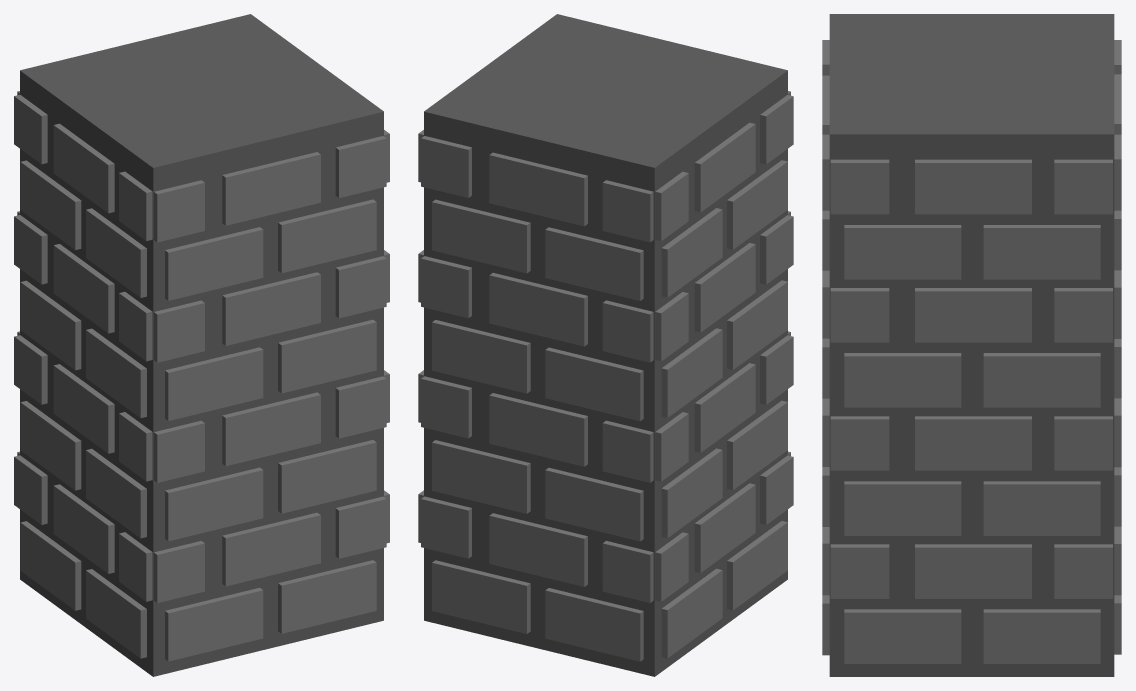
Rendered from pillar.fbx.
The picture shows the model from 3 angles, left to right: view 1: azimuth 30°, elevation 25°; view 2: azimuth 150°, elevation 25°; view 3: azimuth 270°, elevation 25°; orthographic projection. The views are drawn at different scales.
Parts seen in each view (by area): view 1: pillar; view 2: pillar; view 3: pillar.
Part boxes in pixels (box(x1,y1,x2,y2)): pillar: box(14, 14, 389, 676); pillar: box(418, 14, 793, 676); pillar: box(822, 14, 1121, 676).
Size of the model in its own units: 50 by 100 by 50.
